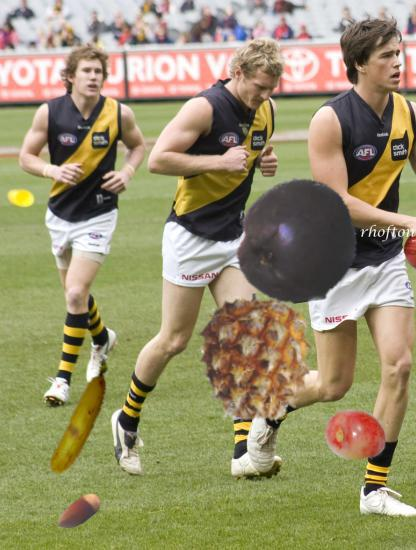Banana: (21, 355, 148, 482)
Cherry: (324, 403, 386, 465)
Hazelnut: (54, 487, 105, 538)
Passion: (232, 178, 358, 304)
Pineapple: (192, 293, 324, 425)
